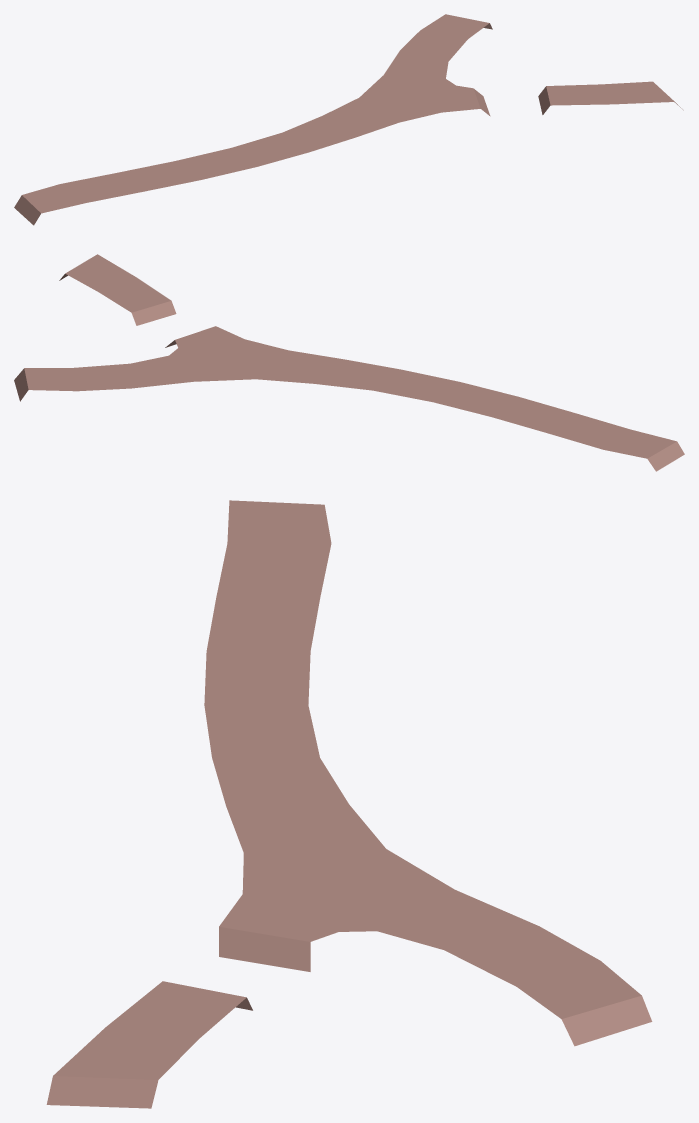
Rendered from Weg.fbx.
3 renders of one model, top to bottom at view 1: azimuth 30°, elevation 25°; view 2: azimuth 150°, elevation 25°; view 3: azimuth 270°, elevation 25°, orthographic. The views are drawn at different scales.
Parts seen in each view (by area): view 1: Fietspad3; view 2: Fietspad3; view 3: Fietspad3.
Boxes of the visible parts, <box> form: Fietspad3: <box>14,14,683,225</box>; Fietspad3: <box>14,254,684,471</box>; Fietspad3: <box>46,500,652,1108</box>.
Bounding box in the file's own units: 16.22 × 0.2674 × 6.99.
